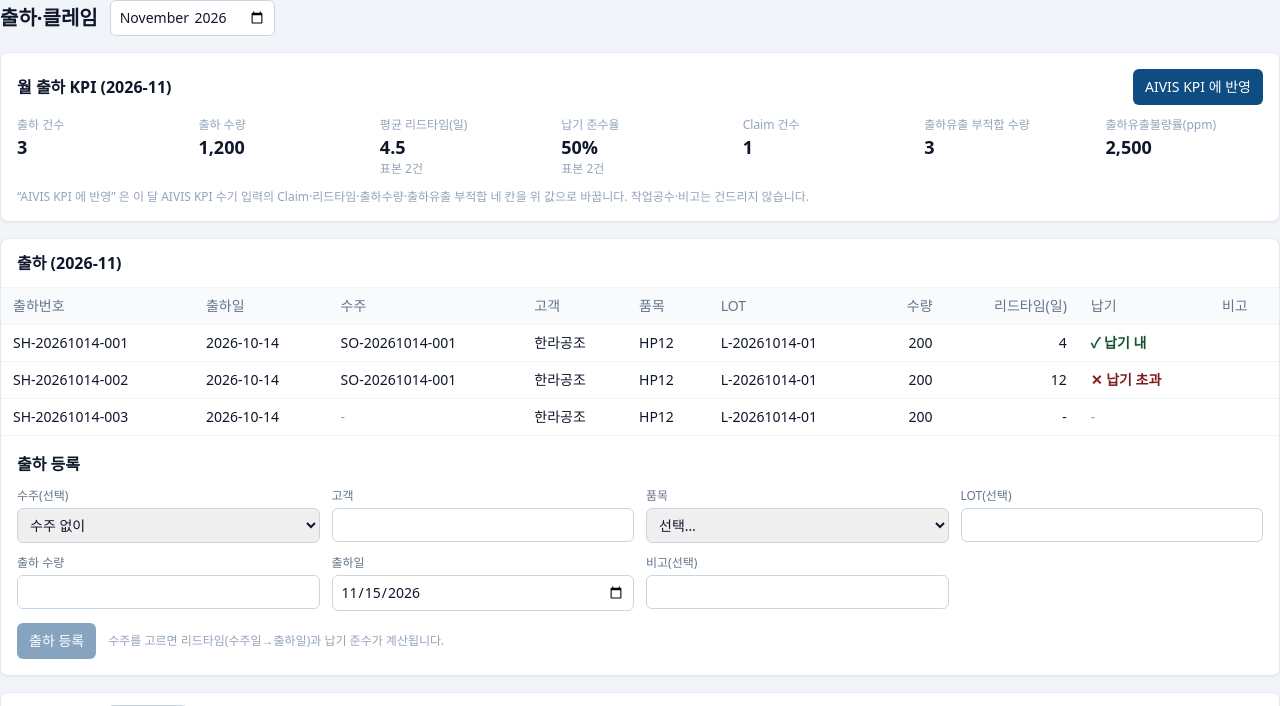
it: MesShippingPage — 월 KPI › 'AIVIS KPI 에 반영' 은 월(YYYY-MM-01)과 네 칸만 보낸다
The width and height of the screenshot is (1280, 706).
Expected: the text "1,200" is shown, [198,135,245,159]
Click the button with test id "kpi-reflect" at [1198, 87], box [1133,69,1263,105]
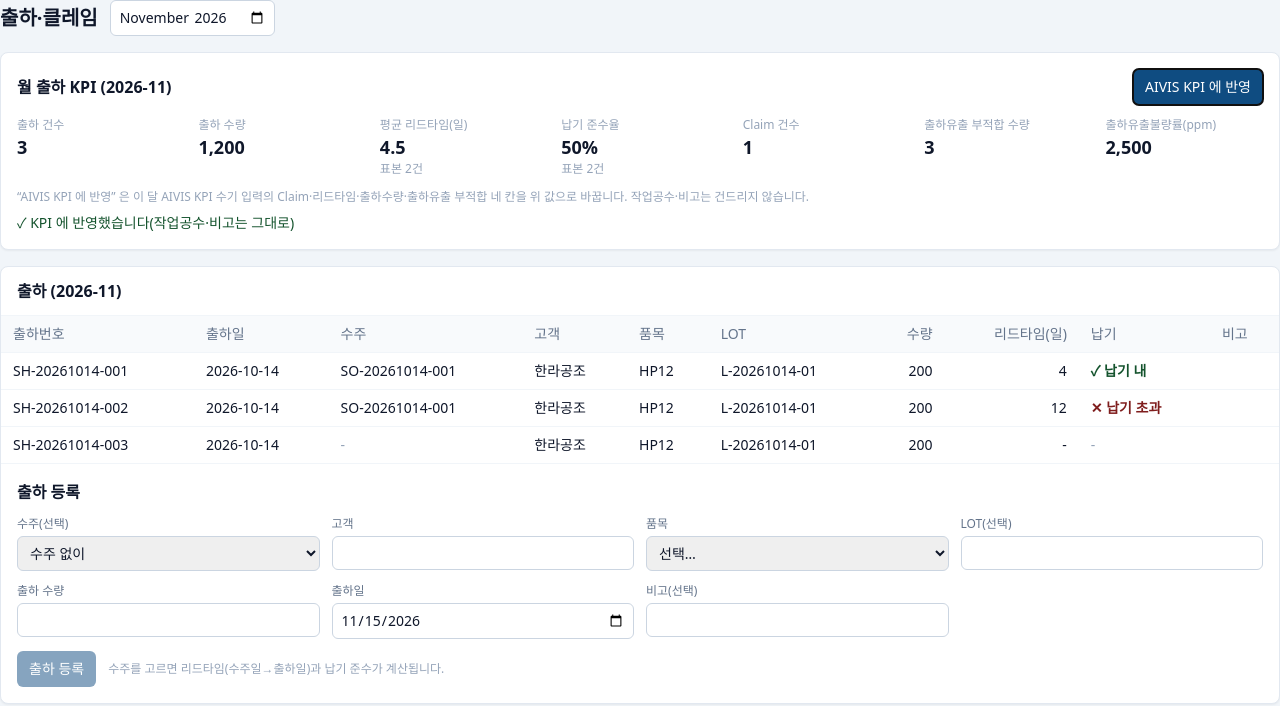
Expected: the message with test id "kpi-reflect-msg" shows "KPI 에 반영했습니다(작업공수·비고는 그대로)", [30,213,294,232]
